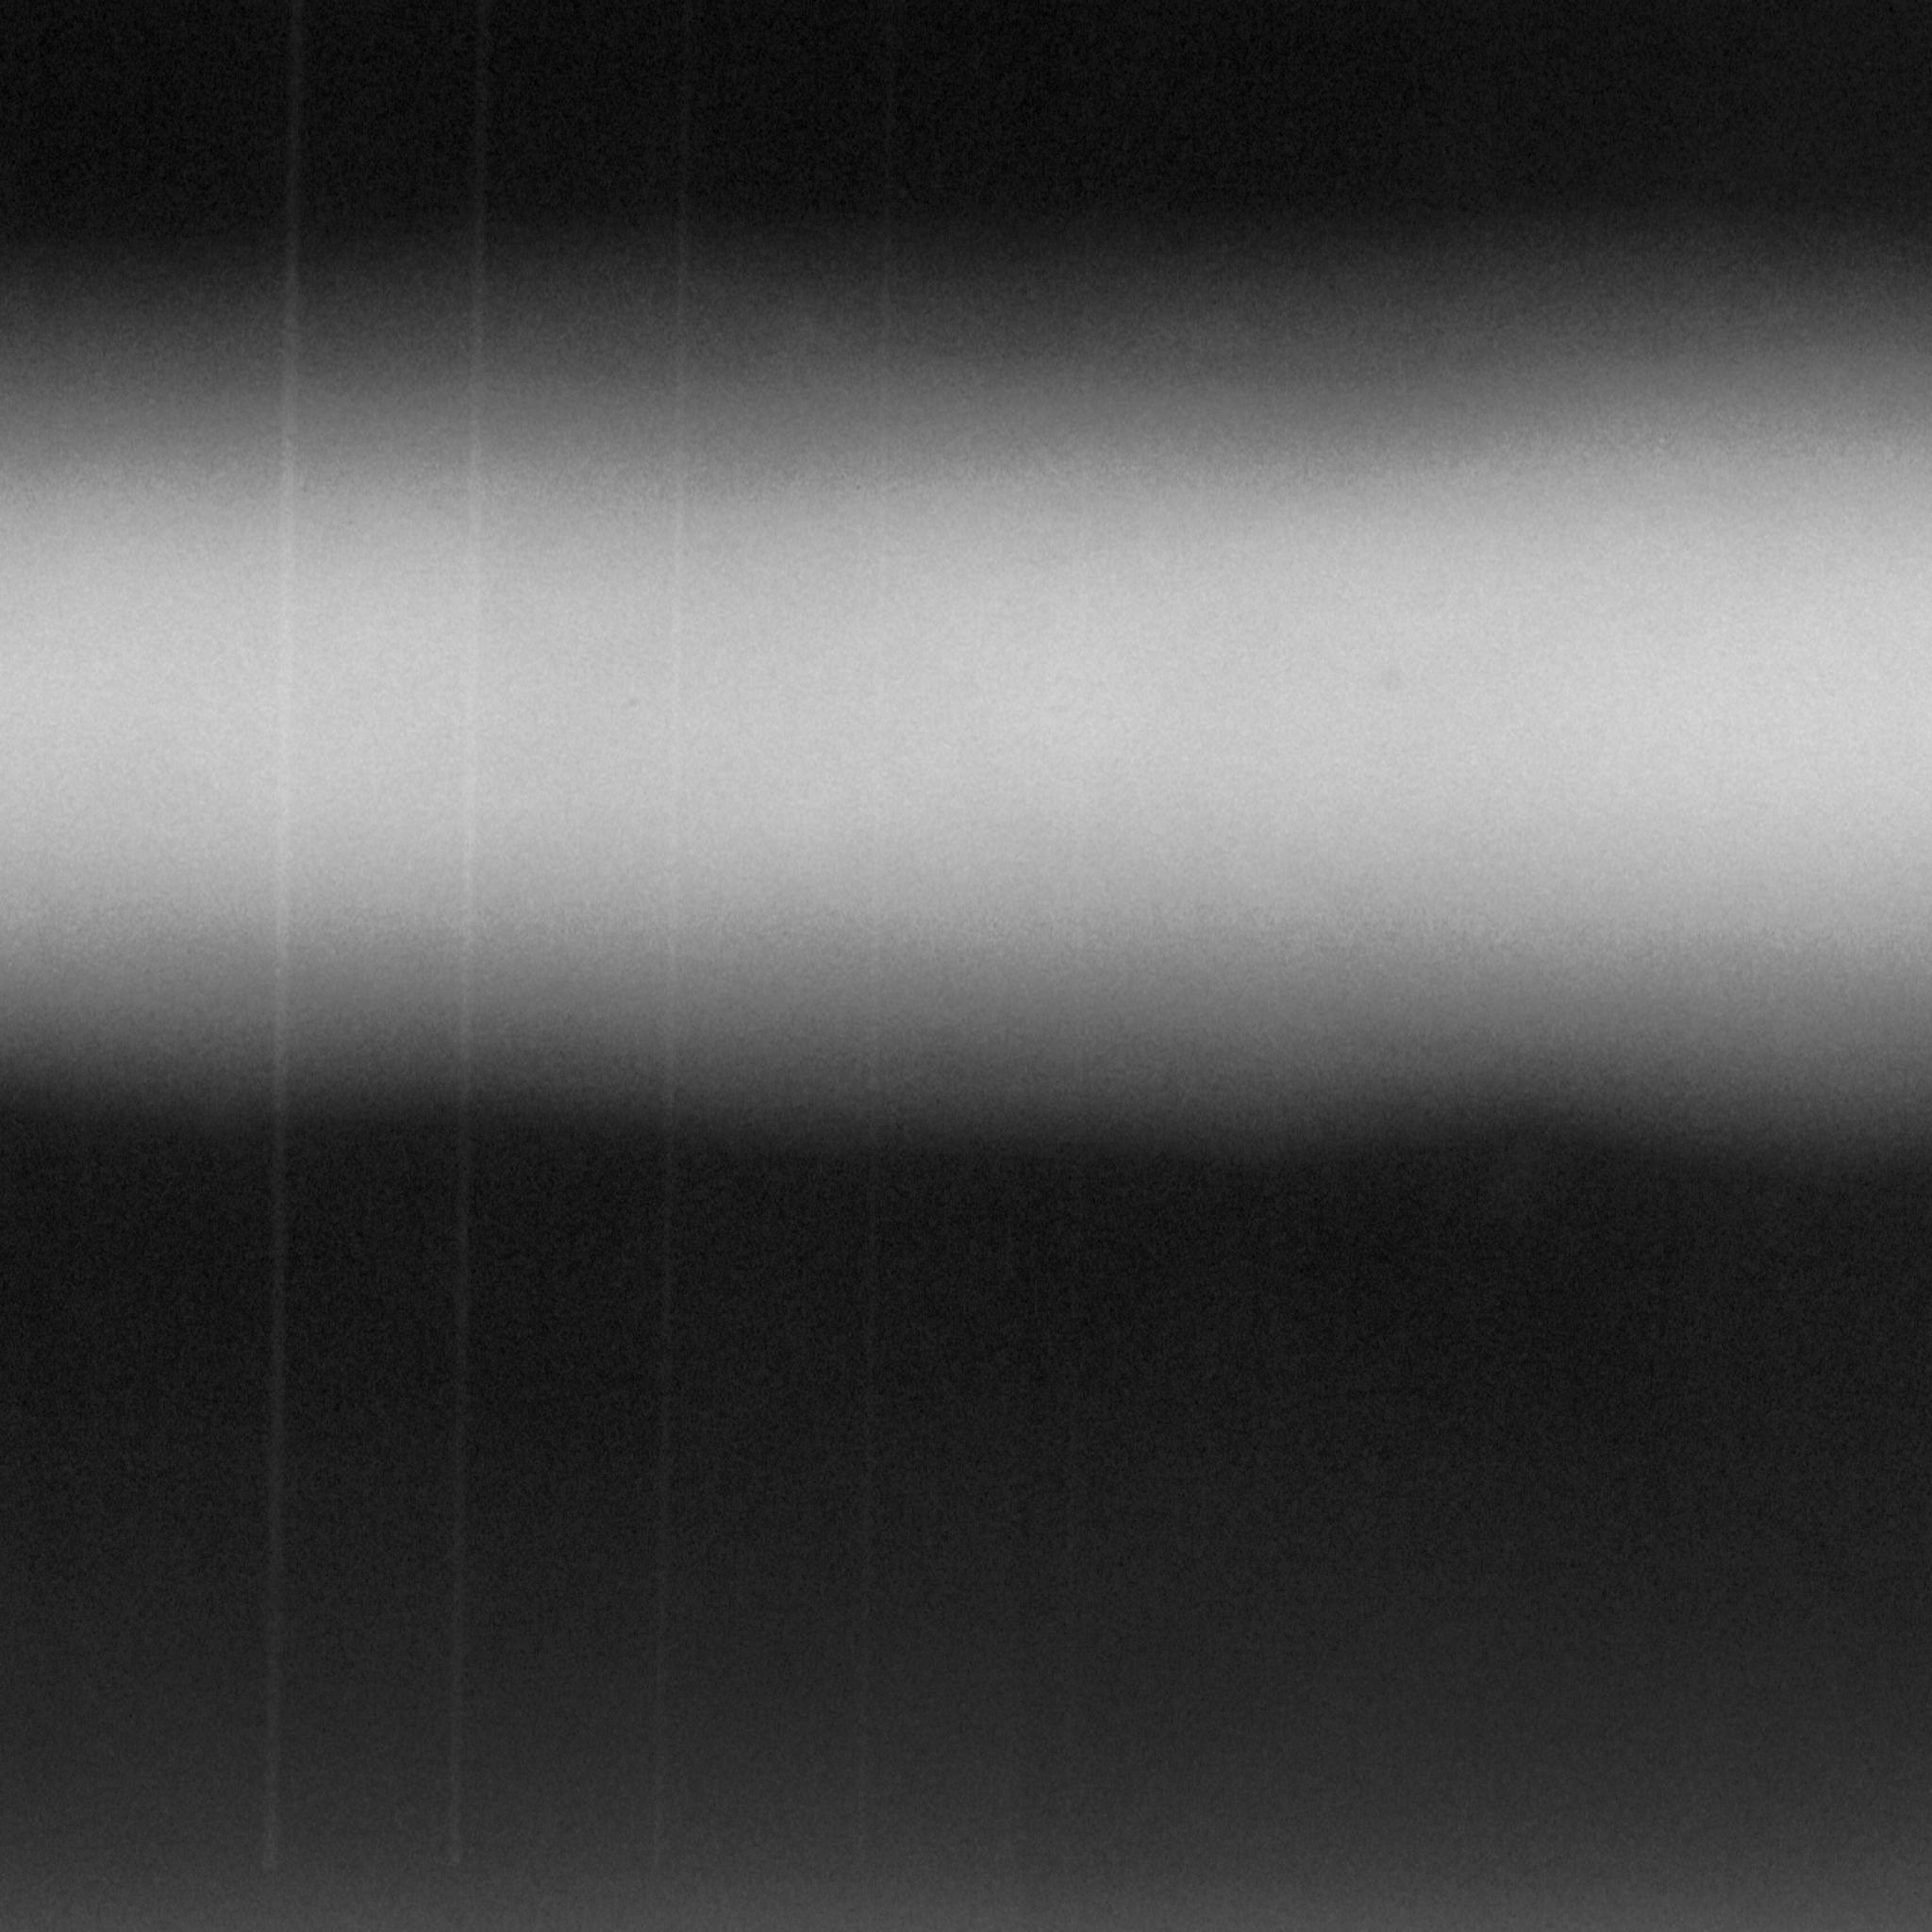PO: (1362, 658, 1428, 715)
